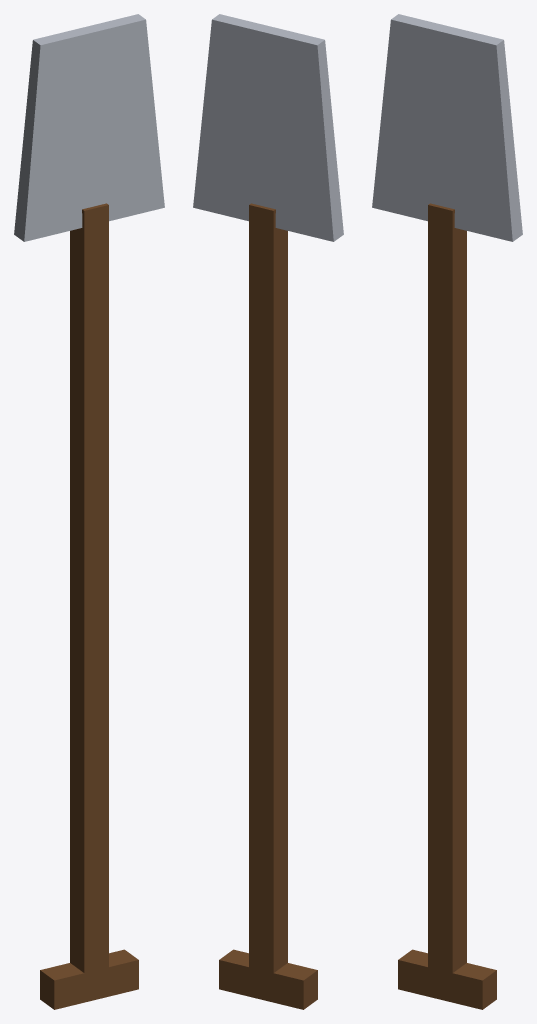
File: shovel.glb
3 renders of one model, left to right at view 1: azimuth 30°, elevation 25°; view 2: azimuth 150°, elevation 25°; view 3: azimuth 330°, elevation 25°, orthographic.
Visible parts, largest first — view 1: shovel; view 2: shovel; view 3: shovel.
Part boxes in pixels (box(x1,y1,x2,y2)): shovel: box(14, 14, 164, 1009); shovel: box(193, 14, 343, 1009); shovel: box(372, 14, 522, 1009).
Bounding box in the file's own units: 0.2 × 1.31 × 0.035.
